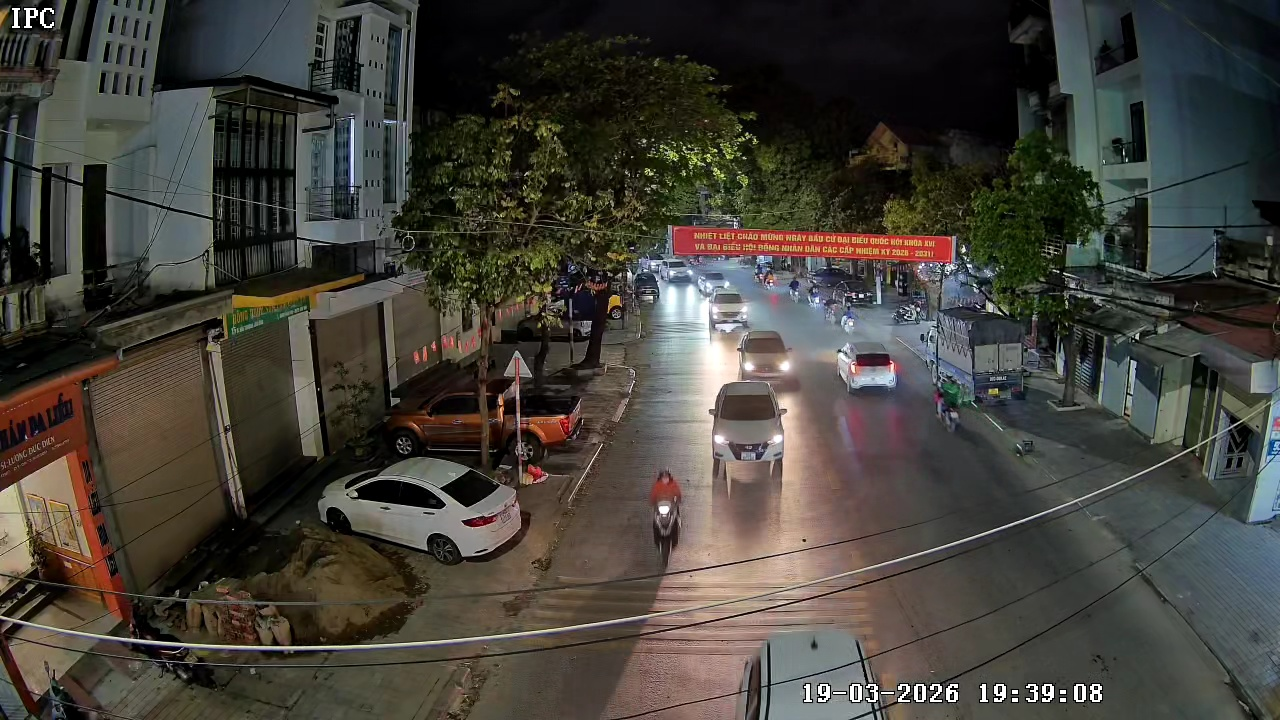car: (318, 455, 530, 561), (707, 377, 790, 482), (735, 325, 799, 388), (837, 337, 898, 396), (709, 288, 750, 334)
motorbike: (648, 466, 687, 565), (934, 376, 963, 435)
